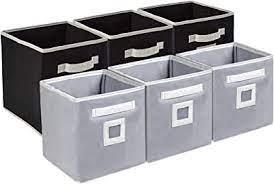cube: (39, 70, 145, 181), (120, 56, 213, 160), (209, 41, 274, 140)
